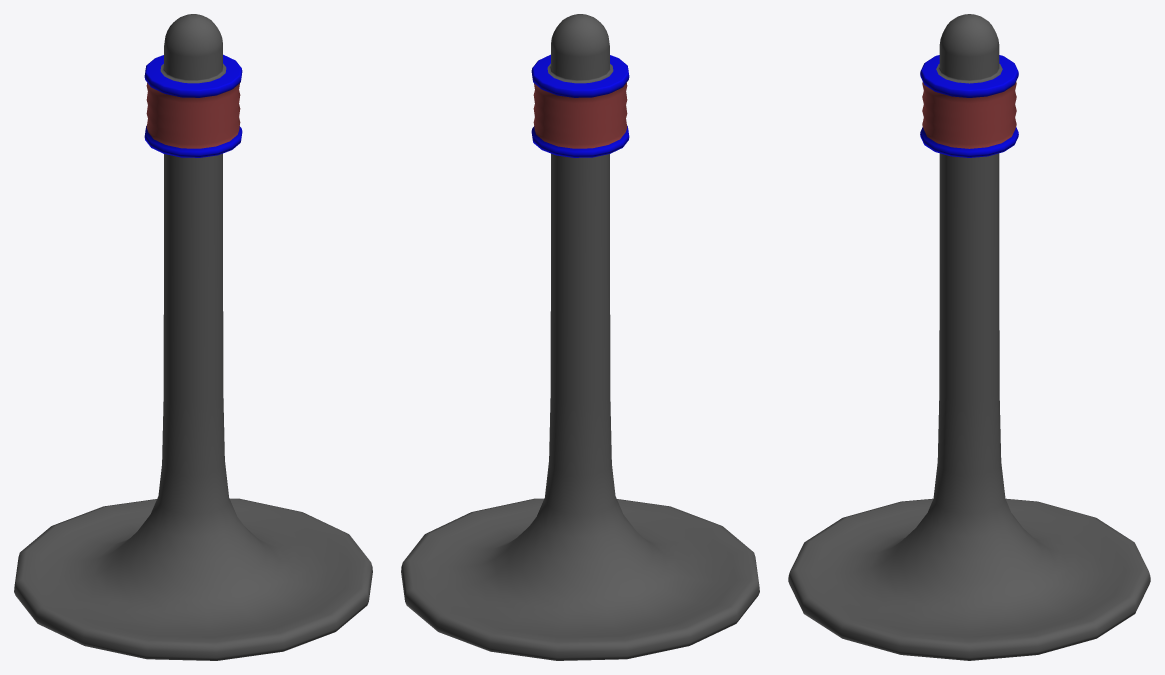
Rendered from Post.fbx.
The picture shows the model from 3 angles, left to right: view 1: azimuth 30°, elevation 25°; view 2: azimuth 150°, elevation 25°; view 3: azimuth 270°, elevation 25°; orthographic projection.
Visible parts, largest first — view 1: Post; view 2: Post; view 3: Post.
Boxes of the visible parts, x1=… form: Post: x1=14, y1=14, x2=372, y2=660; Post: x1=401, y1=14, x2=759, y2=660; Post: x1=788, y1=14, x2=1150, y2=660.
Size of the model in its own units: 2.31 by 4 by 2.31.
